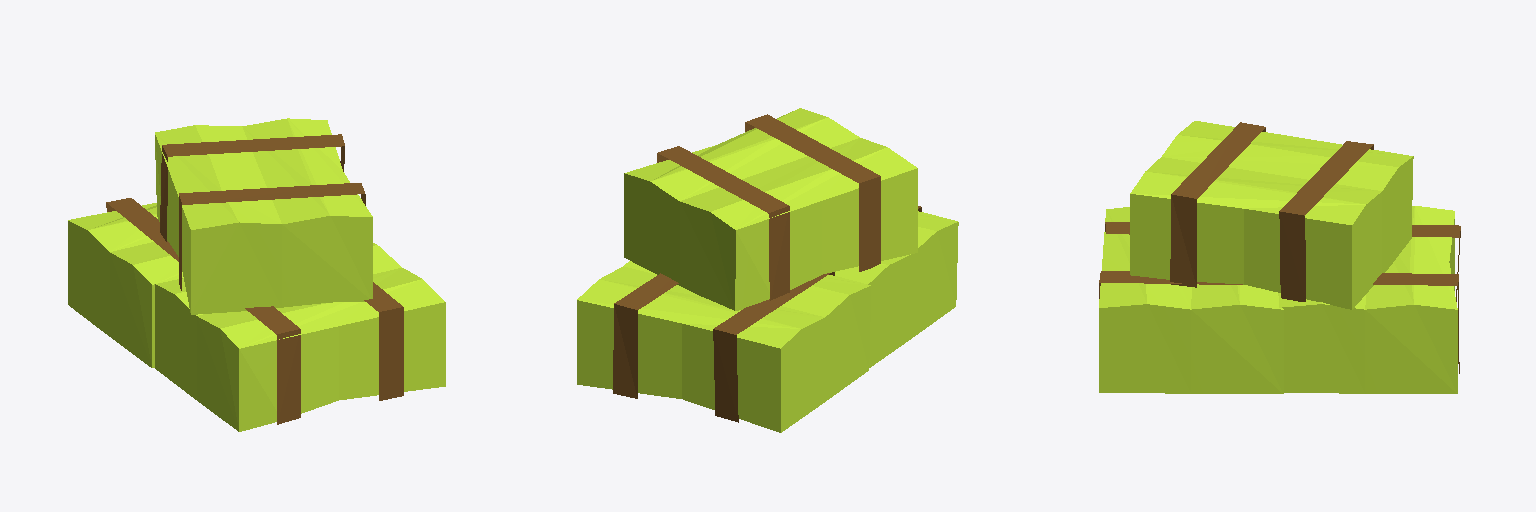
3 renders of one model, left to right at view 1: azimuth 30°, elevation 25°; view 2: azimuth 150°, elevation 25°; view 3: azimuth 270°, elevation 25°, orthographic.
Parts seen in each view (by area): view 1: straw.002, straw.001, straw.003; view 2: straw.002, straw.003, straw.001; view 3: straw.002, straw.001, straw.003.
Part boxes in pixels (bbox=[...]): straw.002: bbox=[155, 118, 372, 314]; straw.001: bbox=[155, 243, 445, 431]; straw.003: bbox=[68, 198, 183, 367]; straw.002: bbox=[624, 108, 917, 310]; straw.003: bbox=[577, 261, 870, 432]; straw.001: bbox=[835, 206, 958, 367]; straw.002: bbox=[1130, 121, 1413, 309]; straw.001: bbox=[1099, 207, 1283, 393]; straw.003: bbox=[1278, 206, 1460, 393].
Bounding box in the file's own units: 22.21 × 17.45 × 32.39.
Materials: 1 (1 with a texture image).